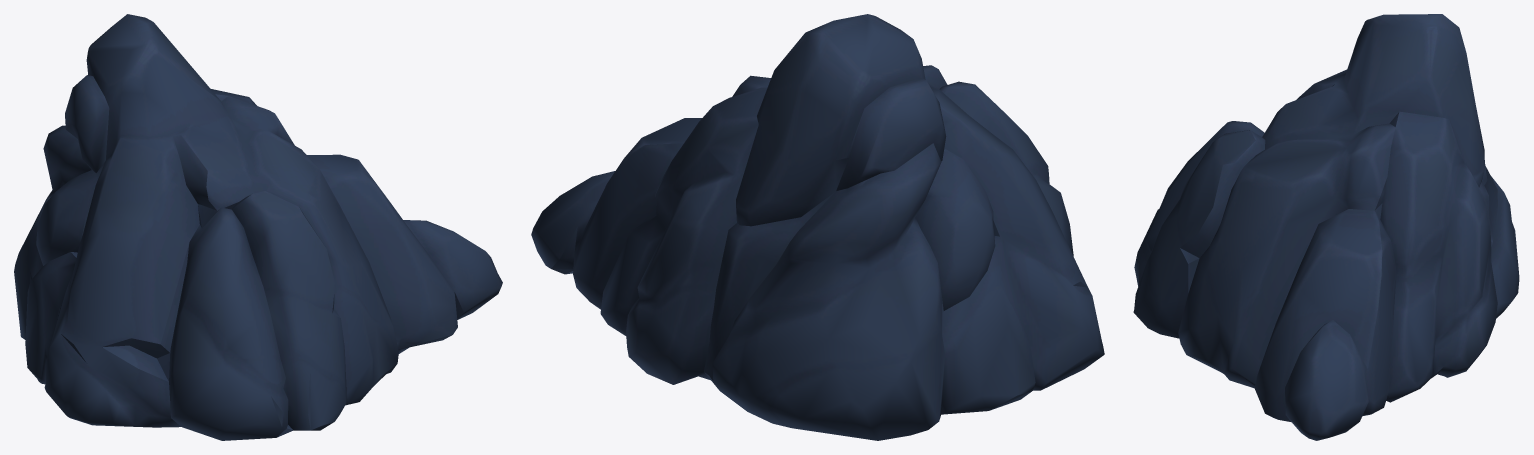
File: PlatformRock_A.fbx
The picture shows the model from 3 angles, left to right: view 1: azimuth 30°, elevation 25°; view 2: azimuth 150°, elevation 25°; view 3: azimuth 270°, elevation 25°; orthographic projection. The views are drawn at different scales.
Parts seen in each view (by area): view 1: SM_PlatformRock_A; view 2: SM_PlatformRock_A; view 3: SM_PlatformRock_A.
Boxes of the visible parts, box(x1,y1,x2,y2) form: SM_PlatformRock_A: box(14, 14, 502, 440); SM_PlatformRock_A: box(531, 14, 1104, 440); SM_PlatformRock_A: box(1133, 14, 1519, 440).
Size of the model in its own units: 673 by 440 by 510.
